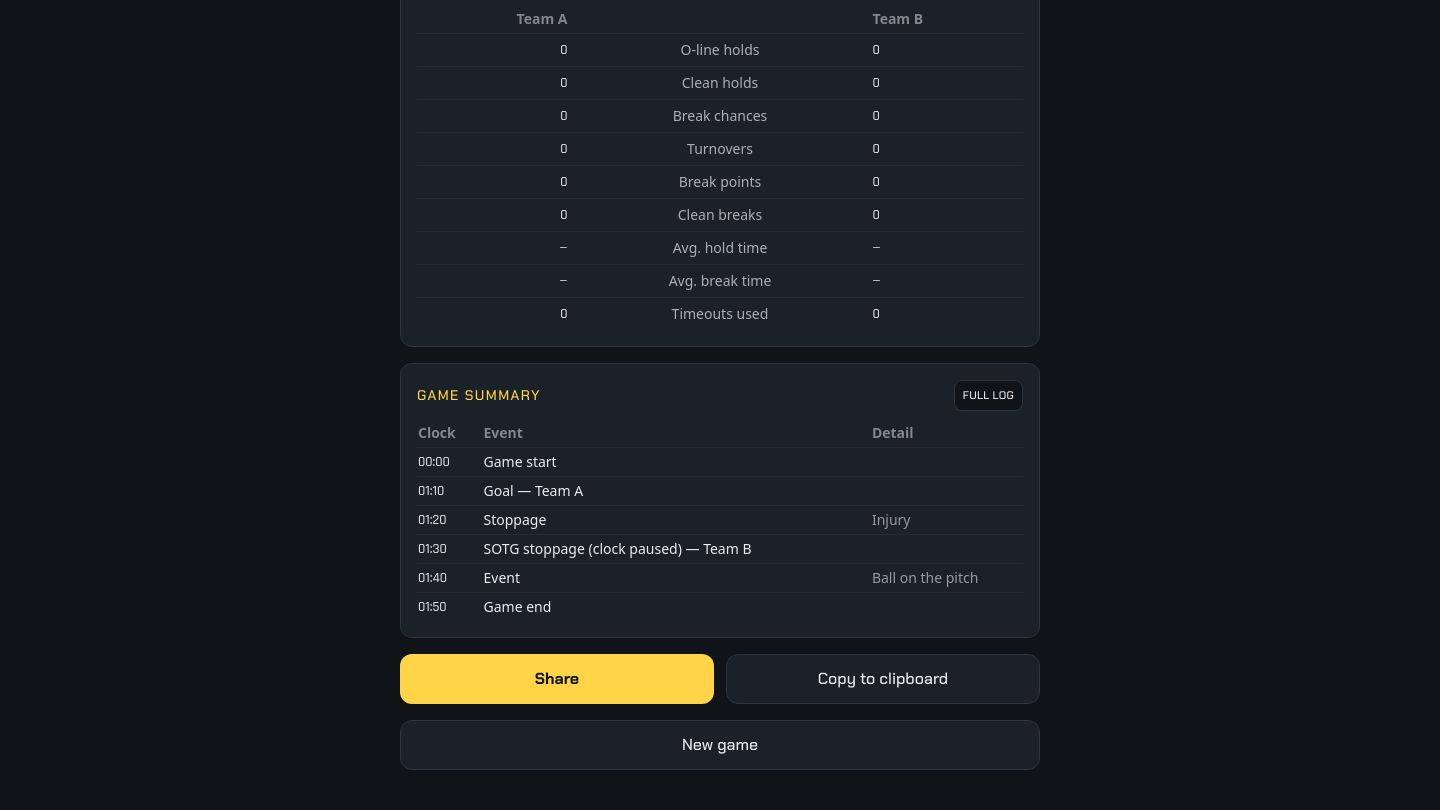
Test: report screen — game history › copies only what the history shows, and the dialog's button copies all of it
(page scrolled)
What coordinates should you click on to do the following:
click the button "Copy to clipboard"
I would click on:
 (883, 678)
Its box is [726,654,1040,704].
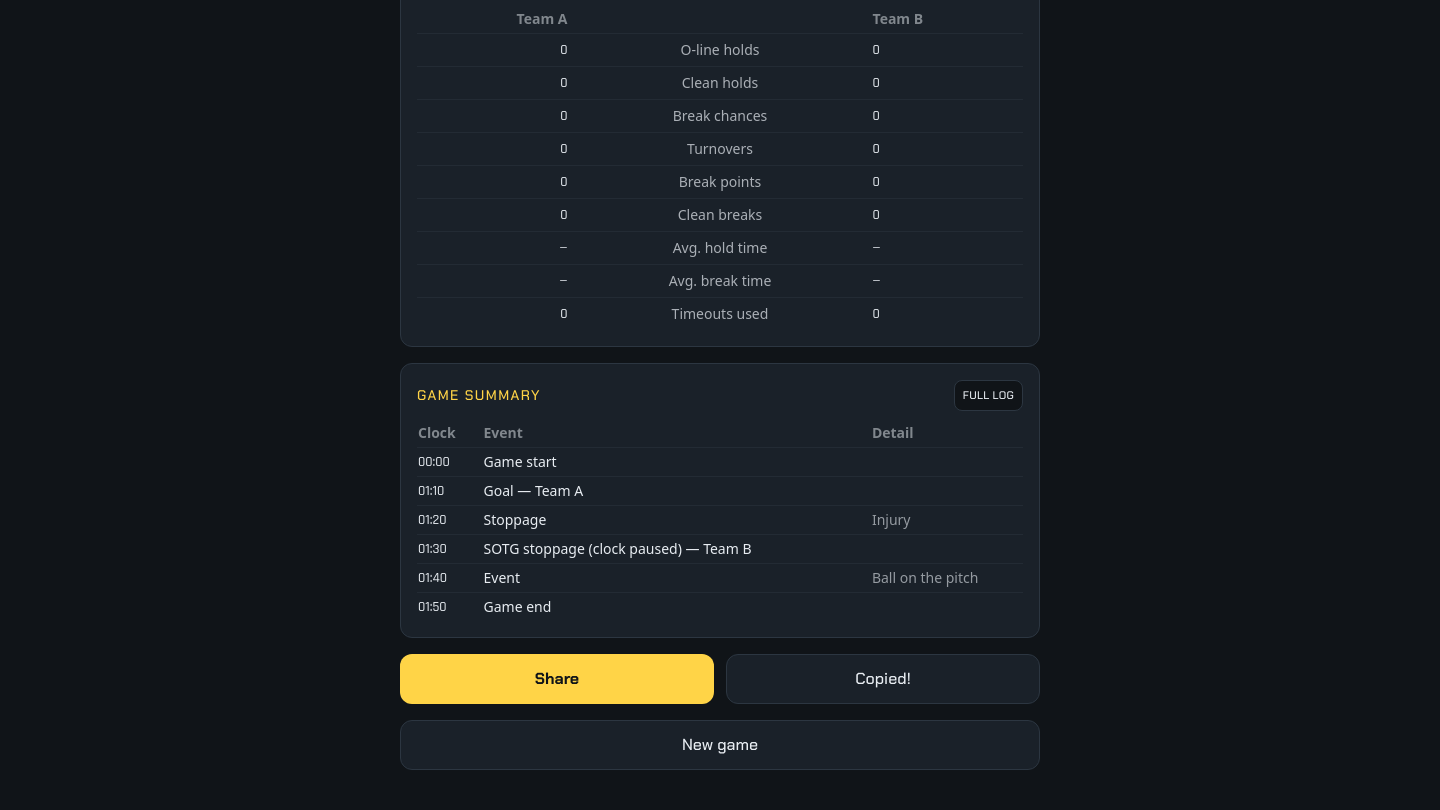
Expected: the button "Copied!" is shown, [726,654,1040,704]
What coordinates should you click on to do the following:
click the button "Full log"
I would click on:
 (988, 395)
Its box is [954,380,1023,410].
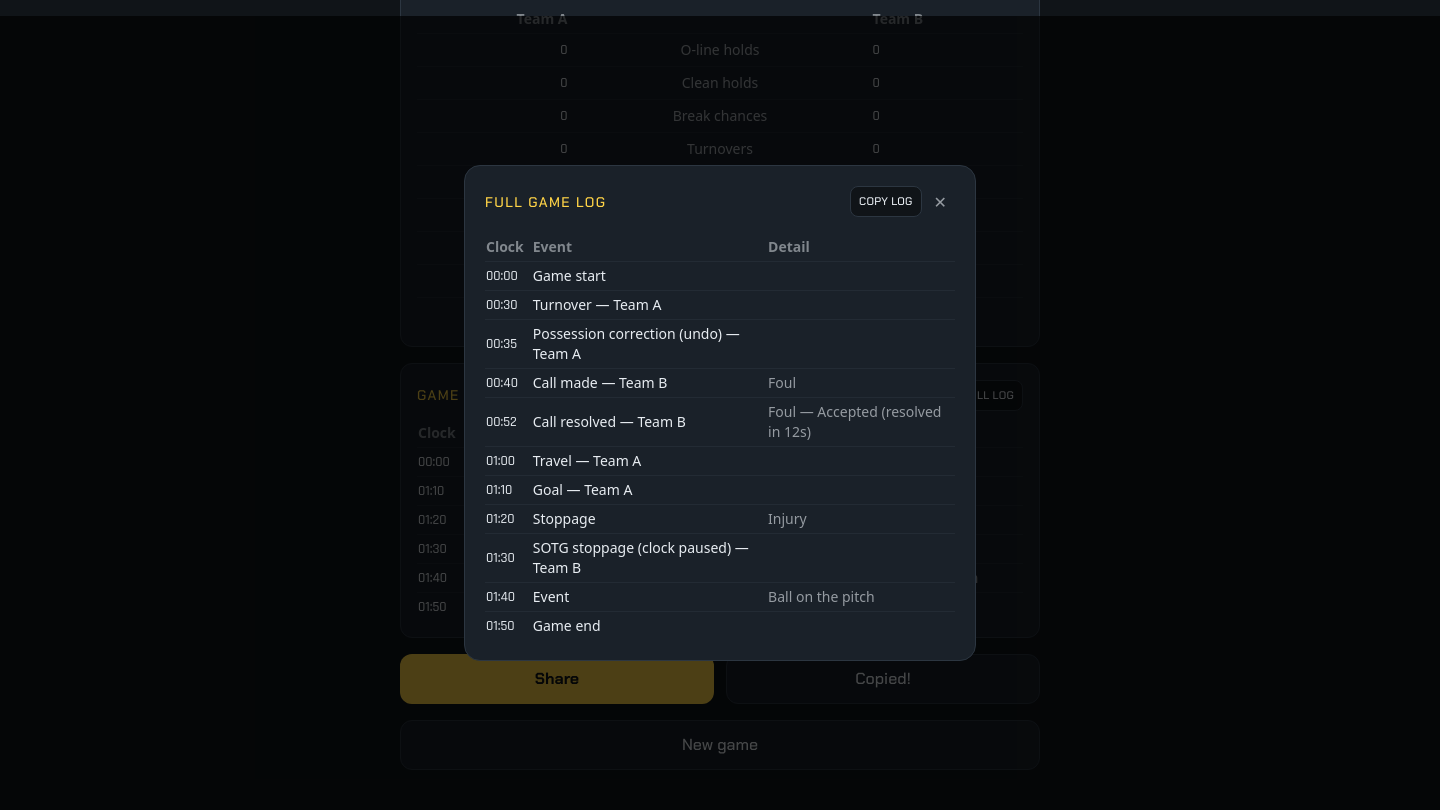
What coordinates should you click on to do the following:
click the button "Copy log"
I would click on:
 (886, 202)
Its box is [850,186,922,217].
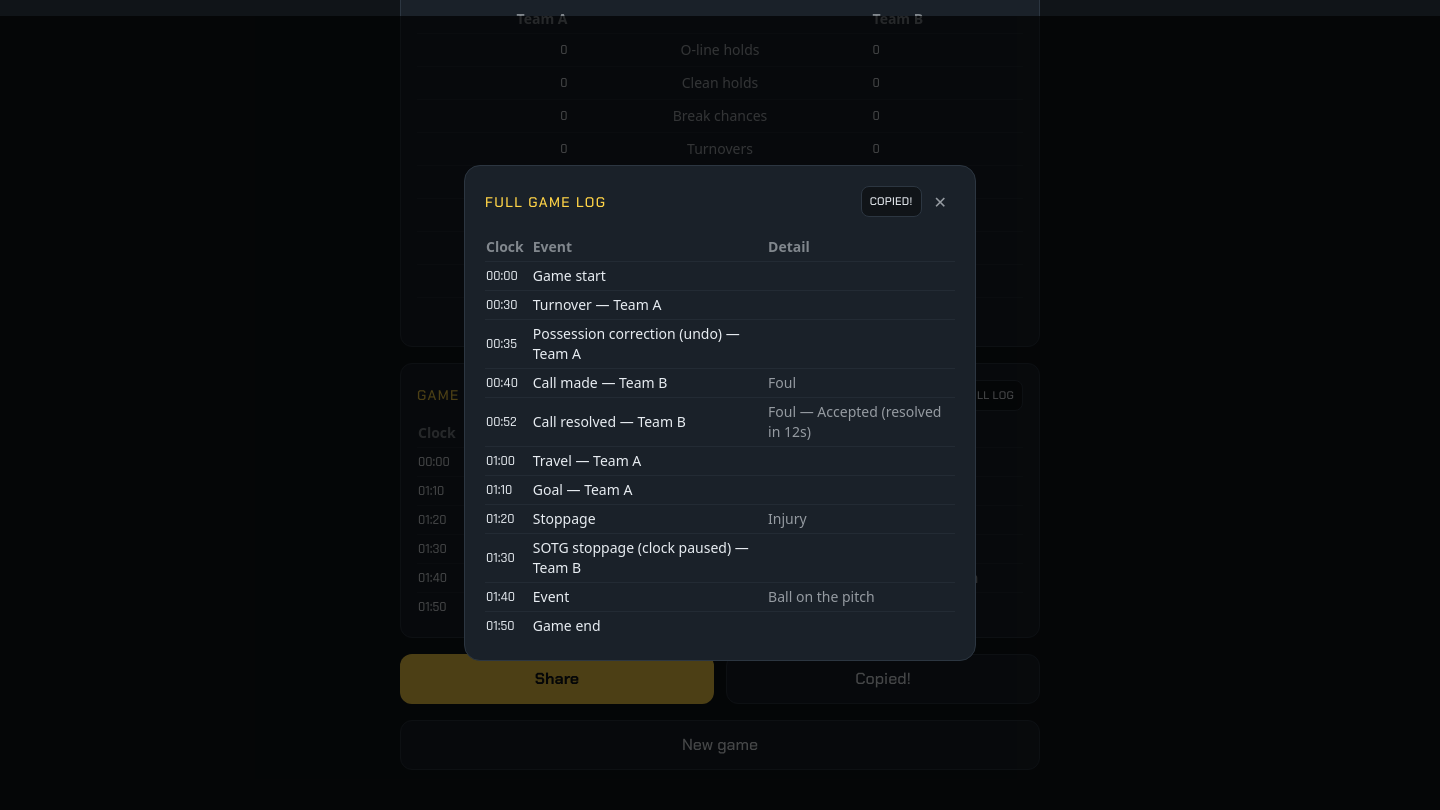
Expected: the button "Copied!" is shown, [861,186,922,217]
